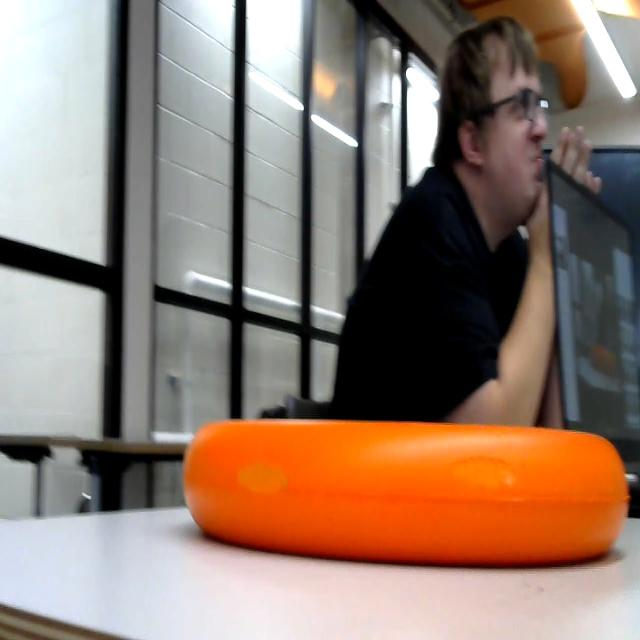note: (176, 412, 638, 588)
